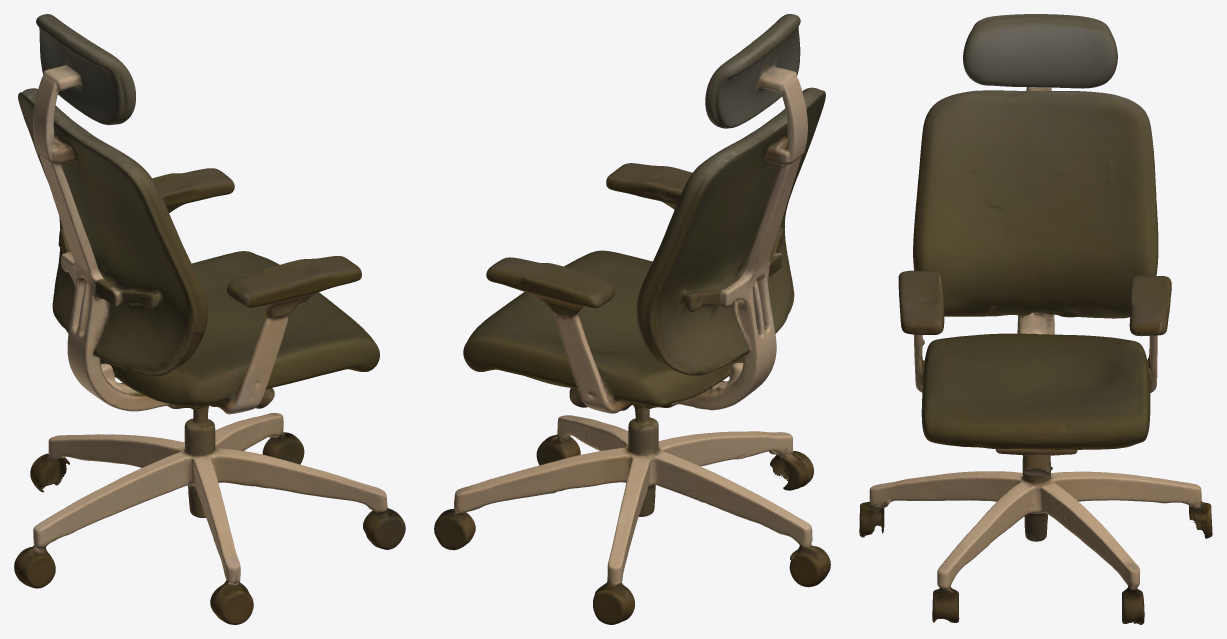
The model's file is chair-gaming.glb.
The picture shows the model from 3 angles, left to right: view 1: azimuth 30°, elevation 25°; view 2: azimuth 150°, elevation 25°; view 3: azimuth 270°, elevation 25°; orthographic projection. The views are drawn at different scales.
Parts seen in each view (by area): view 1: tripo_node_4fcd36cf-00d5-4f4a-8cdc-84aa5281d717; view 2: tripo_node_4fcd36cf-00d5-4f4a-8cdc-84aa5281d717; view 3: tripo_node_4fcd36cf-00d5-4f4a-8cdc-84aa5281d717.
Part boxes in pixels (bbox=[...]): tripo_node_4fcd36cf-00d5-4f4a-8cdc-84aa5281d717: bbox=[14, 14, 405, 624]; tripo_node_4fcd36cf-00d5-4f4a-8cdc-84aa5281d717: bbox=[434, 14, 830, 624]; tripo_node_4fcd36cf-00d5-4f4a-8cdc-84aa5281d717: bbox=[859, 14, 1212, 624].
Size of the model in its own units: 0.6522 by 1 by 0.6485.
Materials: 1 (1 with a texture image).
